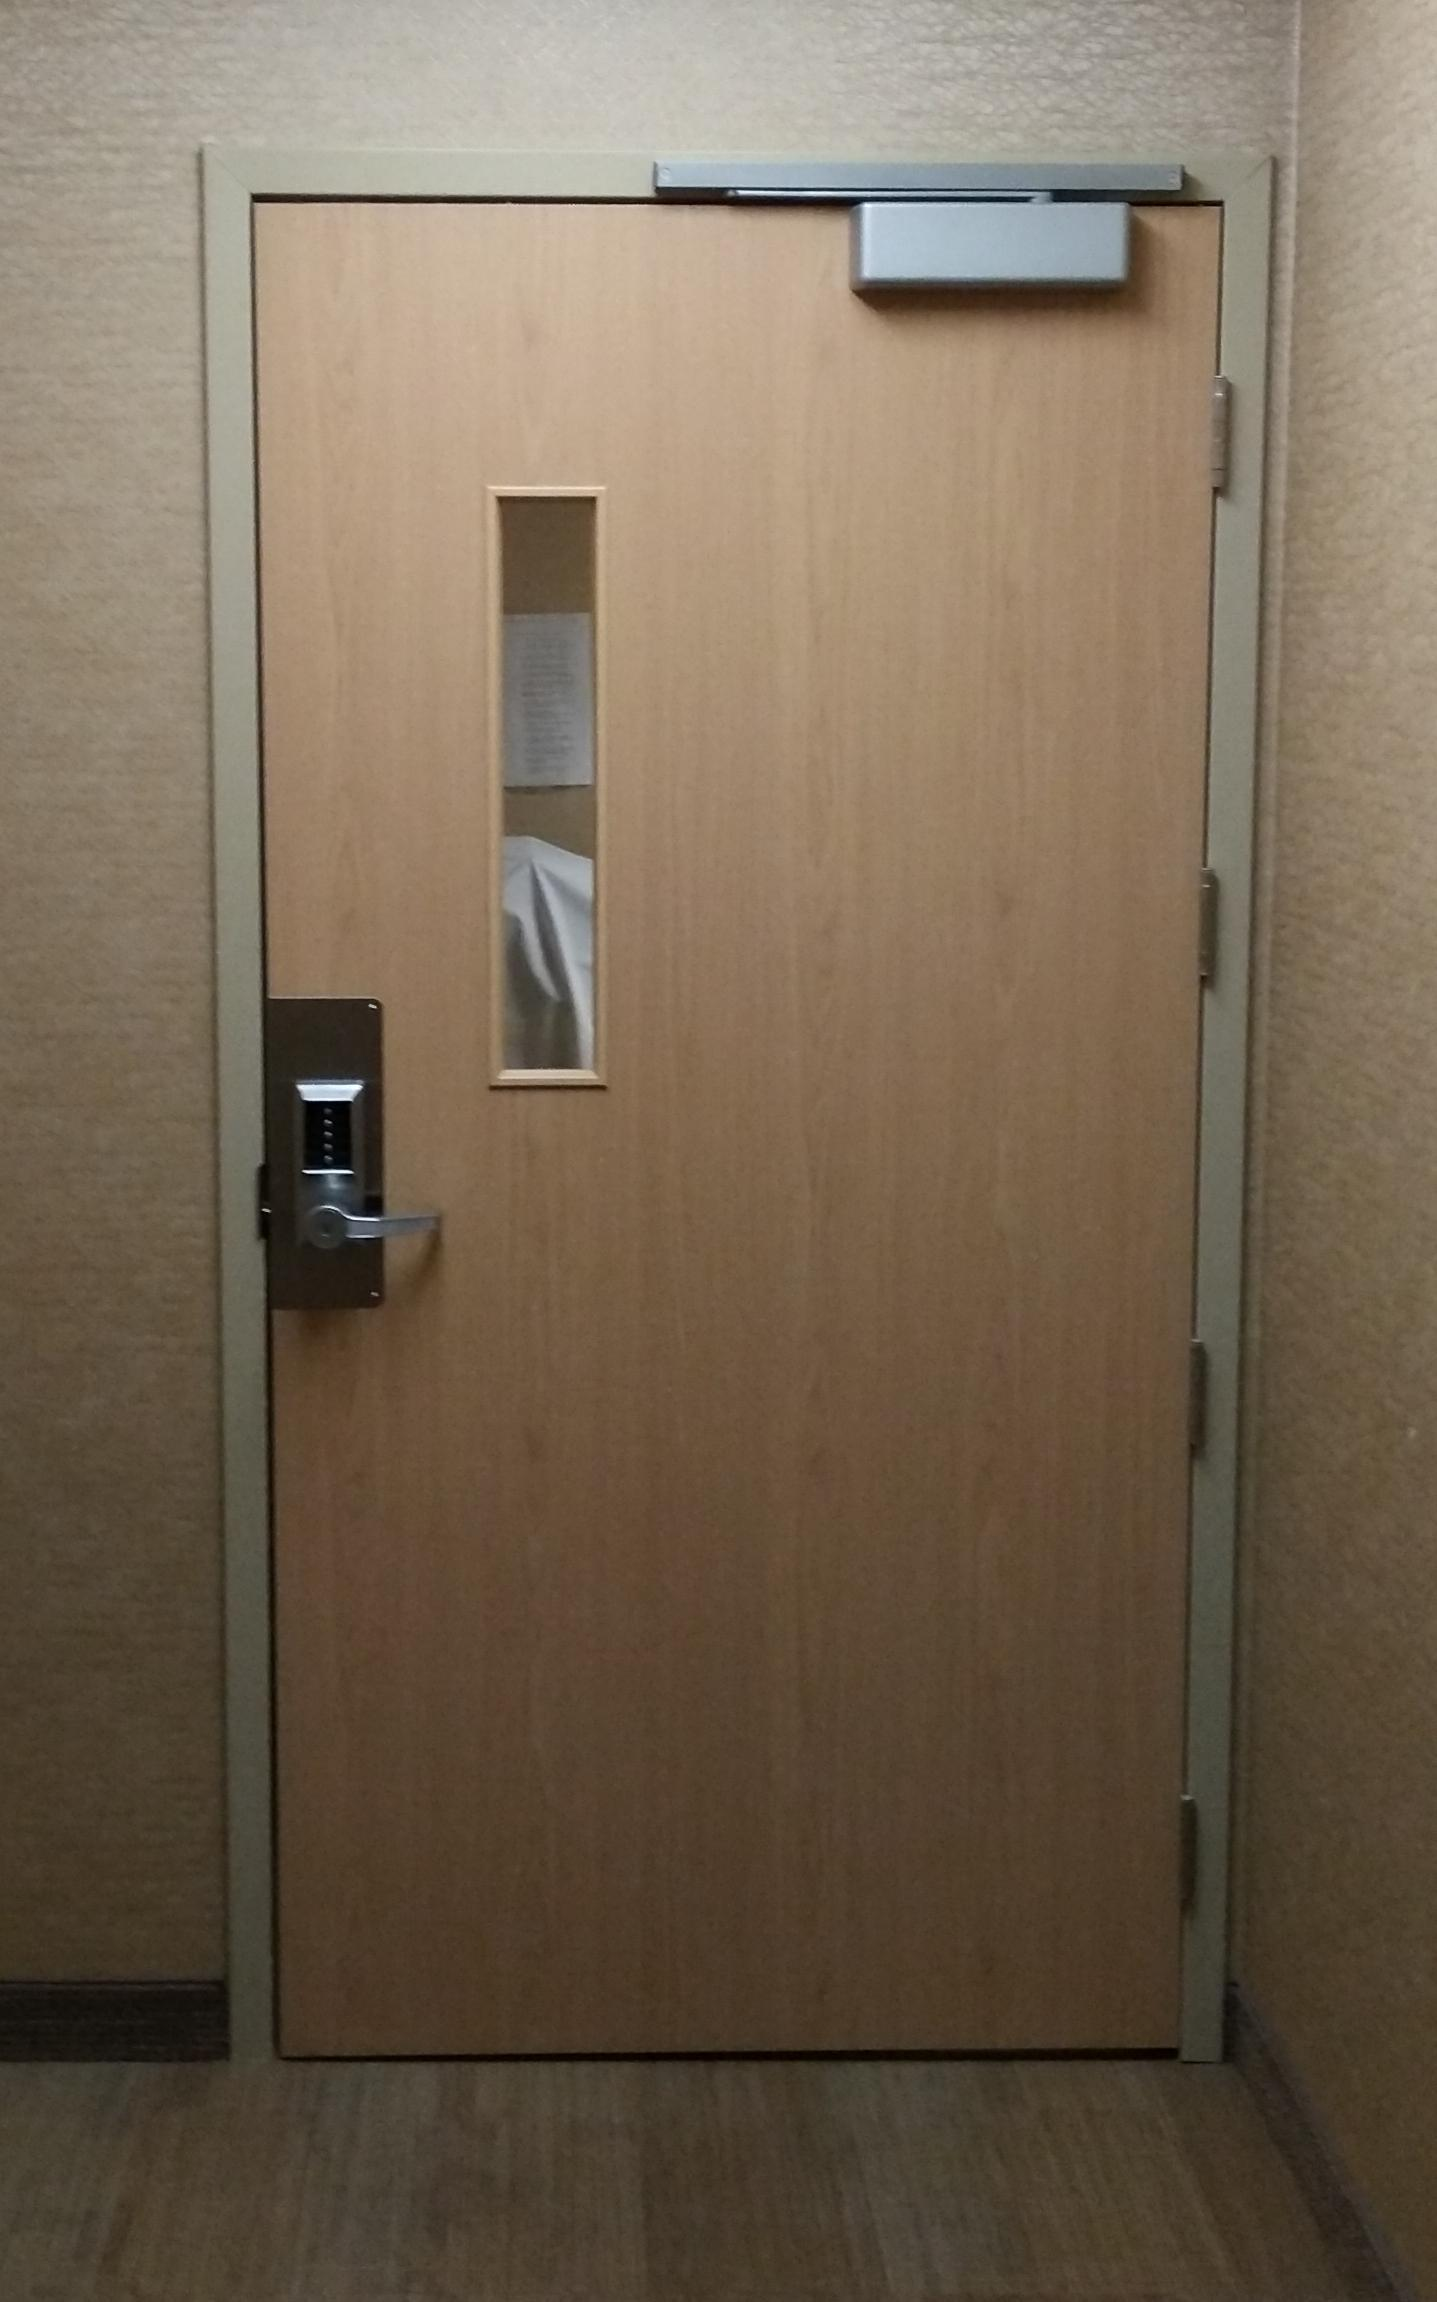door: (227, 162, 1218, 2082)
